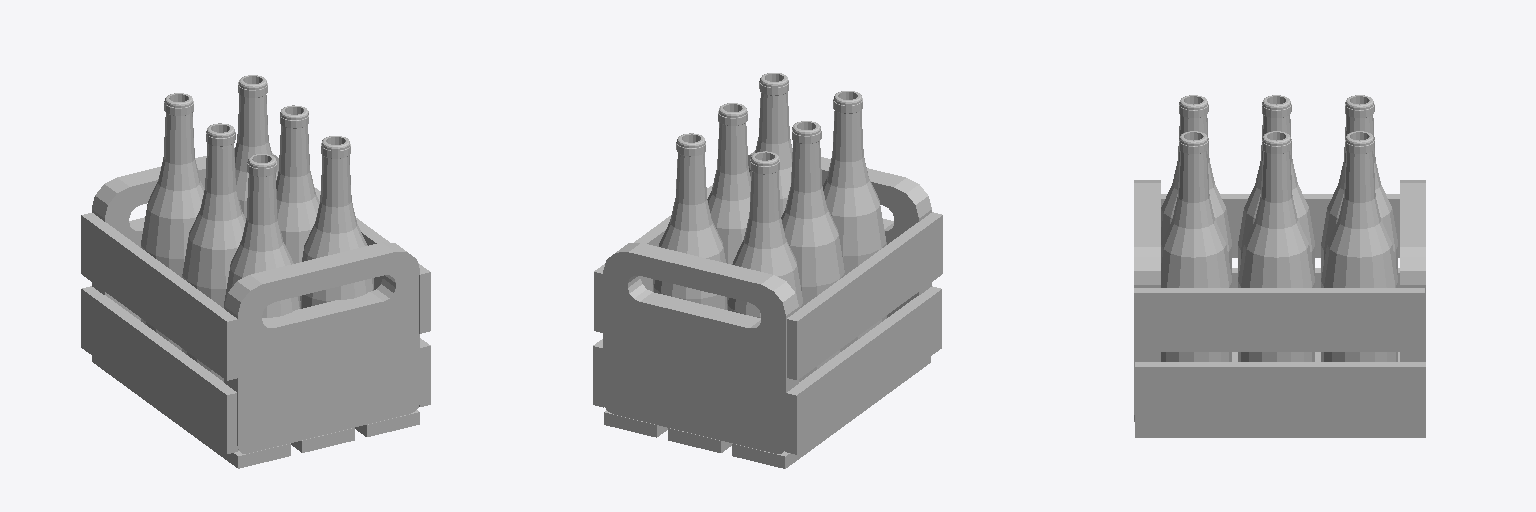
Rendered from Box of bottles.obj.
3 views of the same model, side by side, from view 1: azimuth 30°, elevation 25°; view 2: azimuth 150°, elevation 25°; view 3: azimuth 270°, elevation 25° (orthographic).
Visible parts, largest first — view 1: Box_of_Bottles; view 2: Box_of_Bottles; view 3: Box_of_Bottles.
Part boxes in pixels (x1,y1,x2,y2): Box_of_Bottles: (81, 75, 430, 468); Box_of_Bottles: (593, 73, 942, 468); Box_of_Bottles: (1134, 95, 1425, 437).
Bounding box in the file's own units: 2.06 × 2.66 × 2.56.